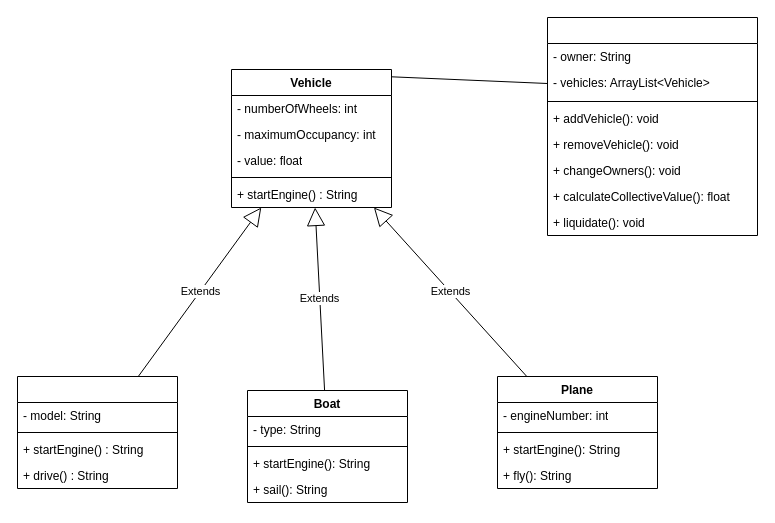
The diagram is 775 pixels wide and 523 high, and some of its shapes have lost their labels. Each missing label, with the box of its shape:
Car: (16, 376, 178, 488)
Garage: (546, 16, 758, 236)
